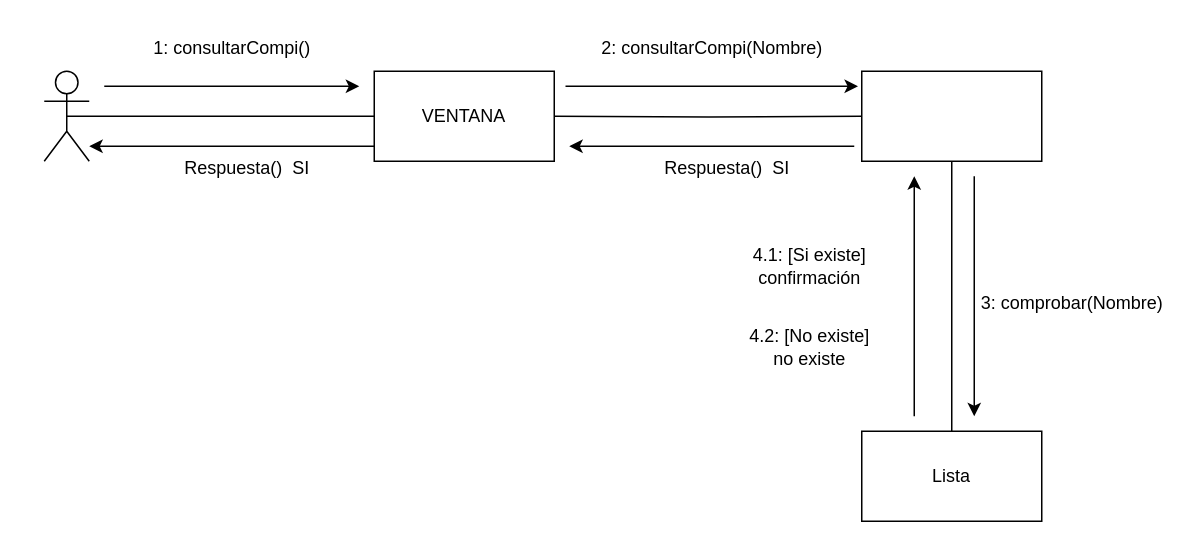
Image size: 1203x548. Some labels were removed from this diagram. Here are the shapes that lost their labels. From the top down, the box of each, then its label:
(43, 70, 89, 161): USUARIO
(860, 70, 1042, 161): CONTROL
